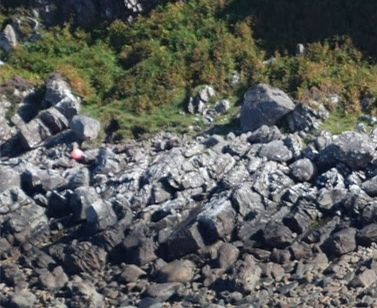white_in_green: (50, 132, 104, 174)
